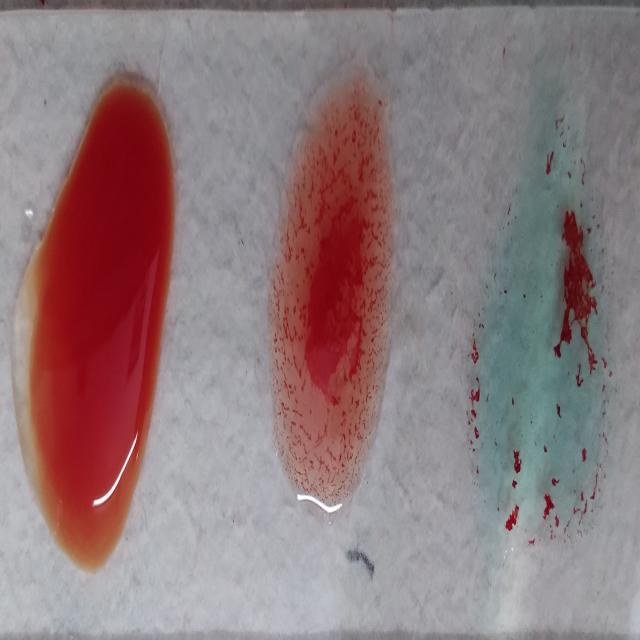A: (477, 106, 610, 560)
D: (272, 80, 391, 514)
